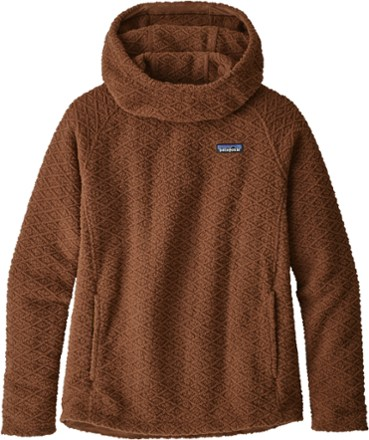T-Shirt: (5, 3, 369, 431)
